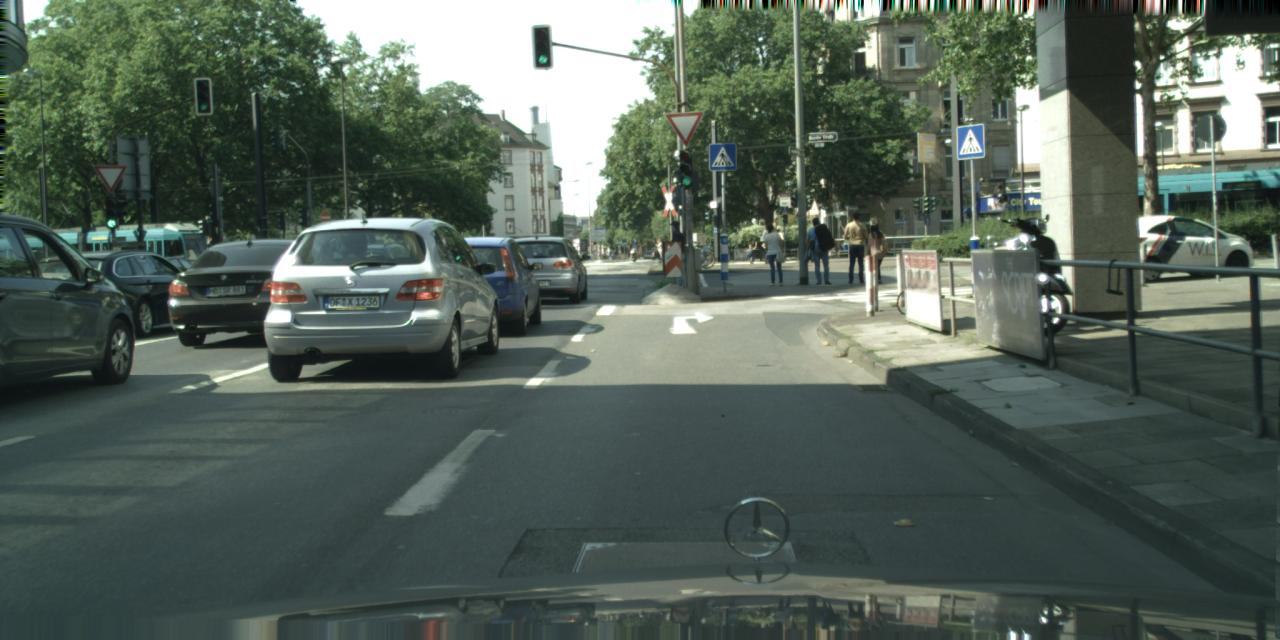ped: (841, 211, 870, 284), (664, 220, 692, 288), (806, 217, 832, 284), (862, 218, 888, 282), (760, 224, 786, 285), (745, 242, 768, 264), (773, 221, 785, 241), (656, 238, 663, 259), (632, 239, 638, 256), (763, 229, 766, 238)
